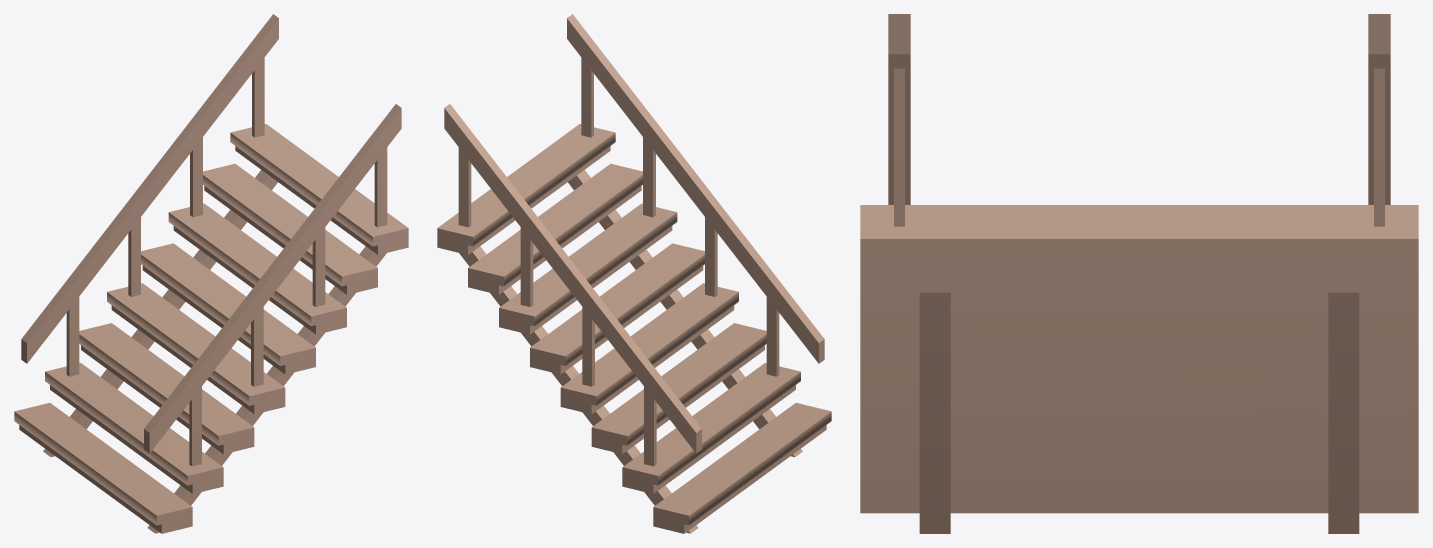
Rendered from stairs-wide-wood-handrail.glb.
The picture shows the model from 3 angles, left to right: view 1: azimuth 30°, elevation 25°; view 2: azimuth 150°, elevation 25°; view 3: azimuth 270°, elevation 25°; orthographic projection. The views are drawn at different scales.
Visible parts, largest first — view 1: stairs-wide-wood-handrail; view 2: stairs-wide-wood-handrail; view 3: stairs-wide-wood-handrail.
Part boxes in pixels (x1=…): stairs-wide-wood-handrail: x1=14, y1=14, x2=408, y2=533; stairs-wide-wood-handrail: x1=437, y1=14, x2=831, y2=533; stairs-wide-wood-handrail: x1=860, y1=14, x2=1418, y2=533.
Size of the model in its own units: 1.02 by 1.45 by 1.
